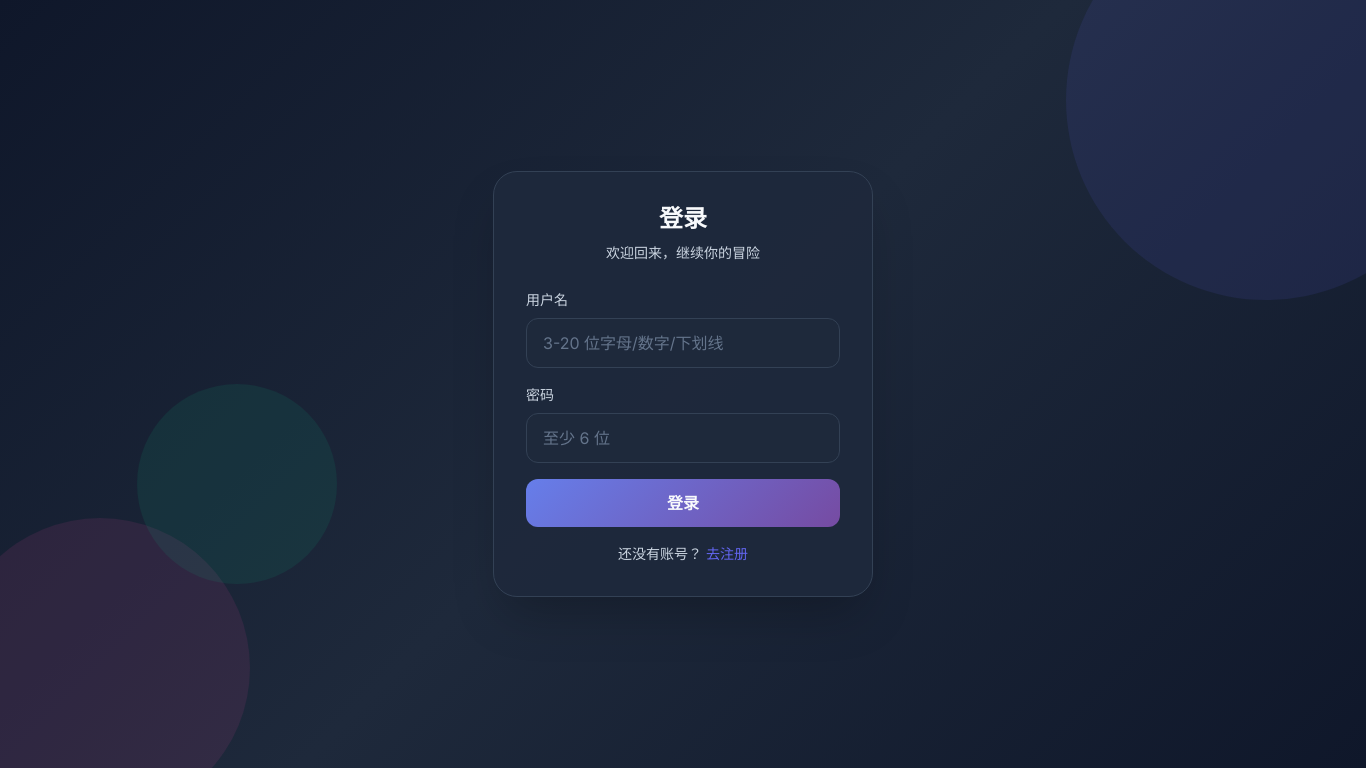
Test: Login › should show password-mismatch error on register
Click the button "去注册": (727,553) [706,543,748,564]
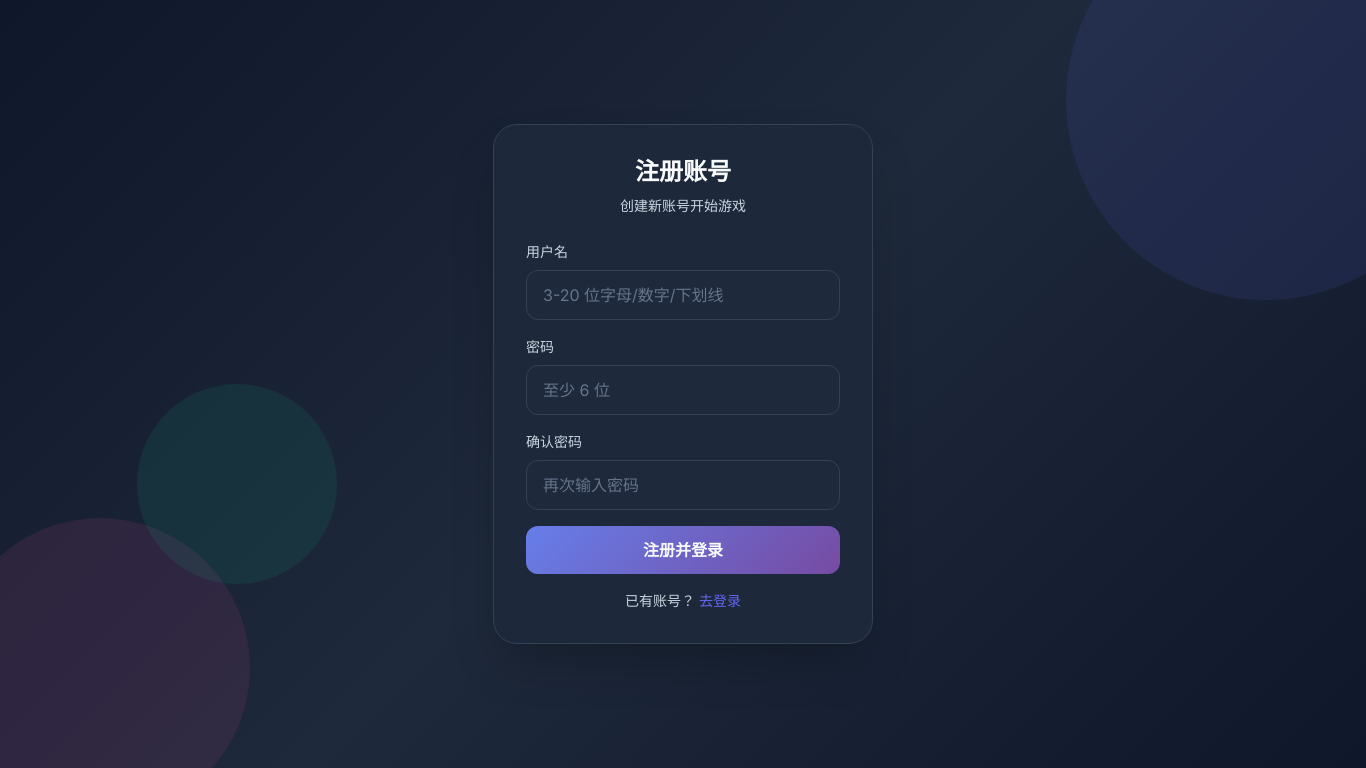
In the field labelled "用户名": (683,295) [526,270,840,320], type "alice"
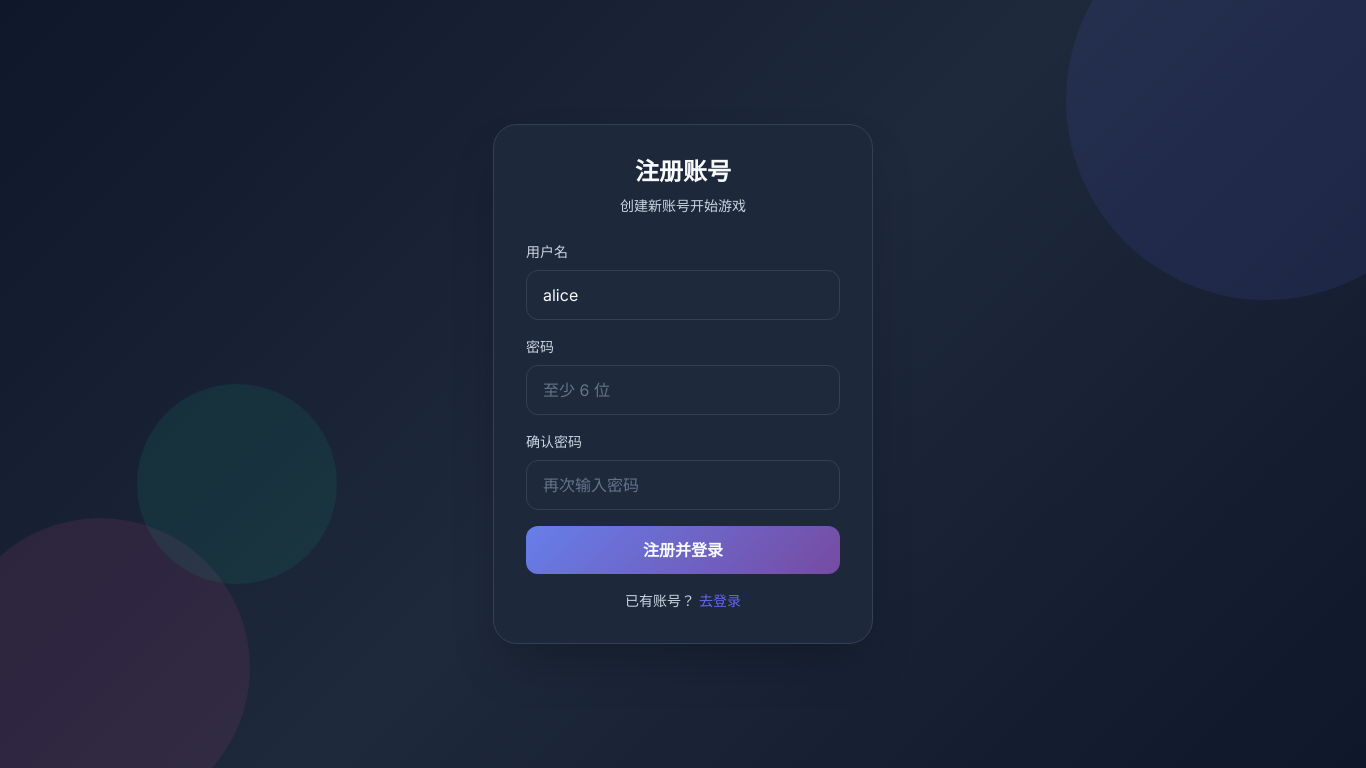
In the password field labelled "密码": (683,390) [526,365,840,415], type "secret1"
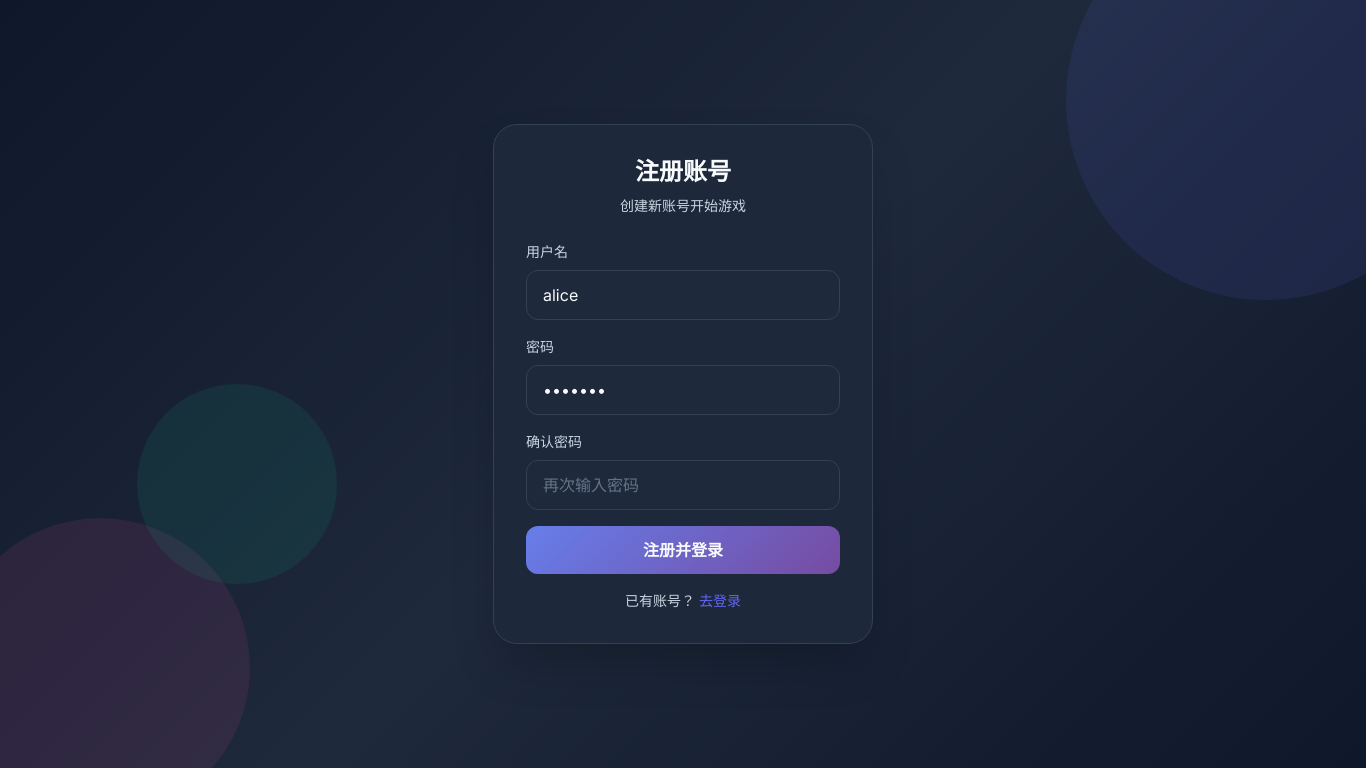
In the password field labelled "确认密码": (683,485) [526,460,840,510], type "different"
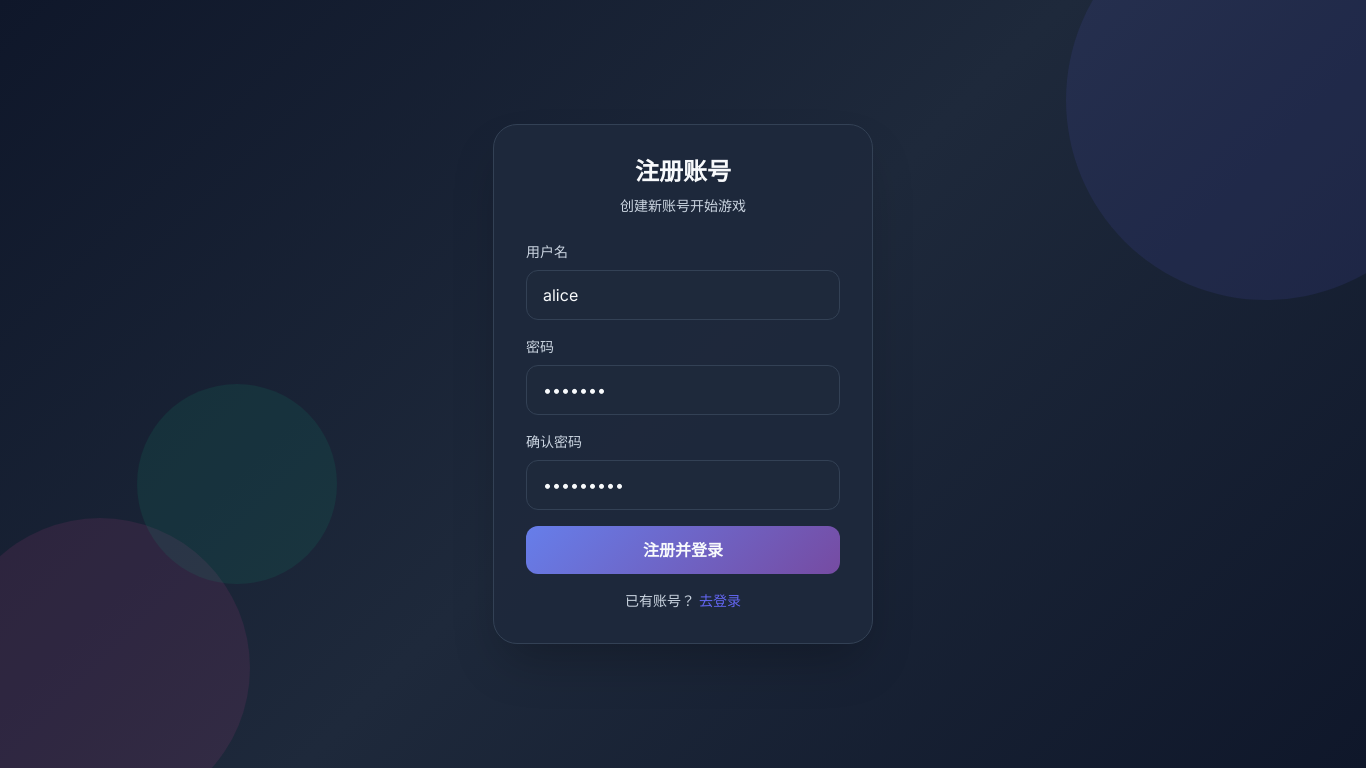
Click the button "注册并登录": (683,550) [526,526,840,574]
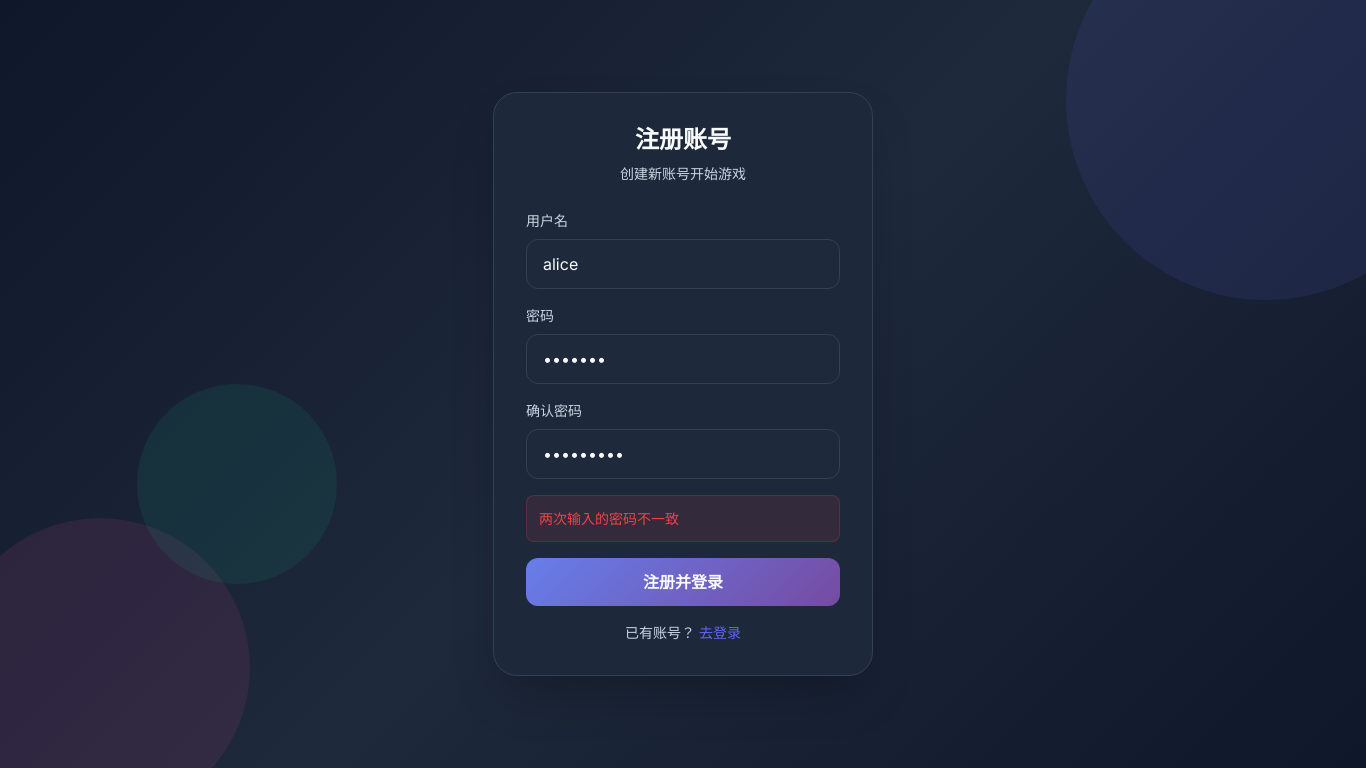
Result: the text "两次输入的密码不一致" is shown at [526,495,840,542]
